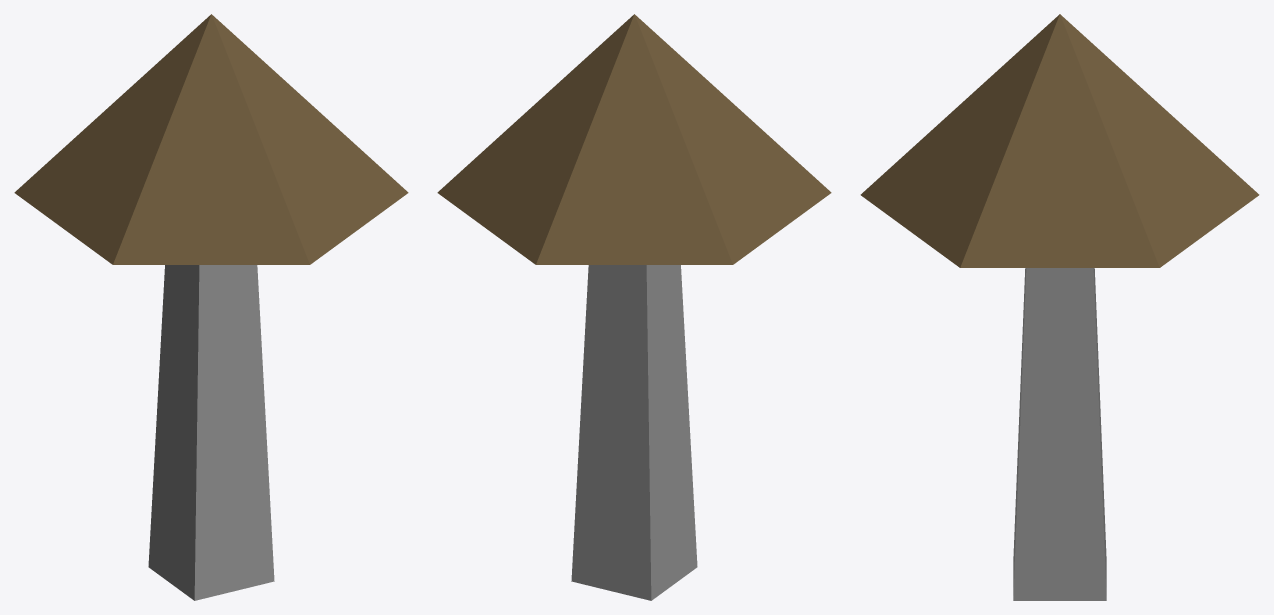
File: Mushroom_Tall_01.obj
3 renders of one model, left to right at view 1: azimuth 30°, elevation 25°; view 2: azimuth 150°, elevation 25°; view 3: azimuth 270°, elevation 25°, orthographic.
Parts seen in each view (by area): view 1: Mesh1_Mushroom_Tall_Model; view 2: Mesh1_Mushroom_Tall_Model; view 3: Mesh1_Mushroom_Tall_Model.
Part boxes in pixels (<box>): Mesh1_Mushroom_Tall_Model: <box>14,14,408,600</box>; Mesh1_Mushroom_Tall_Model: <box>437,14,831,600</box>; Mesh1_Mushroom_Tall_Model: <box>860,14,1259,600</box>.
Size of the model in its own units: 0.4349 by 0.787 by 0.5022.
